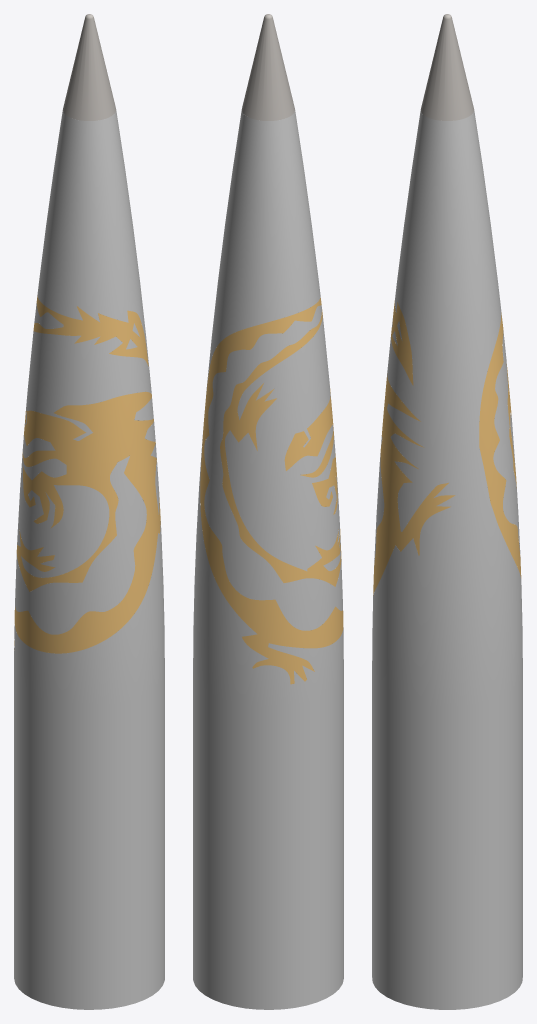
File: Goose4_Nose_Cone.glb
3 renders of one model, left to right at view 1: azimuth 30°, elevation 25°; view 2: azimuth 150°, elevation 25°; view 3: azimuth 270°, elevation 25°, orthographic.
Visible parts, largest first — view 1: Nose Cone (Sahib)-1, Nose Cone Tip (Sahib)-1; view 2: Nose Cone (Sahib)-1, Nose Cone Tip (Sahib)-1; view 3: Nose Cone (Sahib)-1, Nose Cone Tip (Sahib)-1.
Boxes of the visible parts, <box> form: Nose Cone (Sahib)-1: <box>14,110,164,1009</box>; Nose Cone Tip (Sahib)-1: <box>63,14,116,120</box>; Nose Cone (Sahib)-1: <box>193,110,343,1009</box>; Nose Cone Tip (Sahib)-1: <box>241,14,294,120</box>; Nose Cone (Sahib)-1: <box>372,109,522,1009</box>; Nose Cone Tip (Sahib)-1: <box>421,14,473,120</box>.
Bounding box in the file's own units: 0.1078 × 0.759 × 0.1078.
